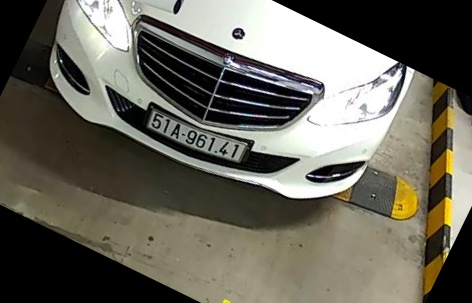plate: (144, 103, 253, 169)
